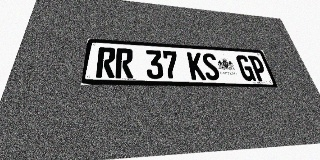3: (146, 50, 164, 79)
7: (162, 51, 180, 79)
G: (235, 55, 256, 81)
K: (187, 52, 206, 80)
P: (248, 56, 269, 81)
R: (96, 47, 116, 78), (115, 48, 133, 78)
S: (201, 53, 221, 80)
